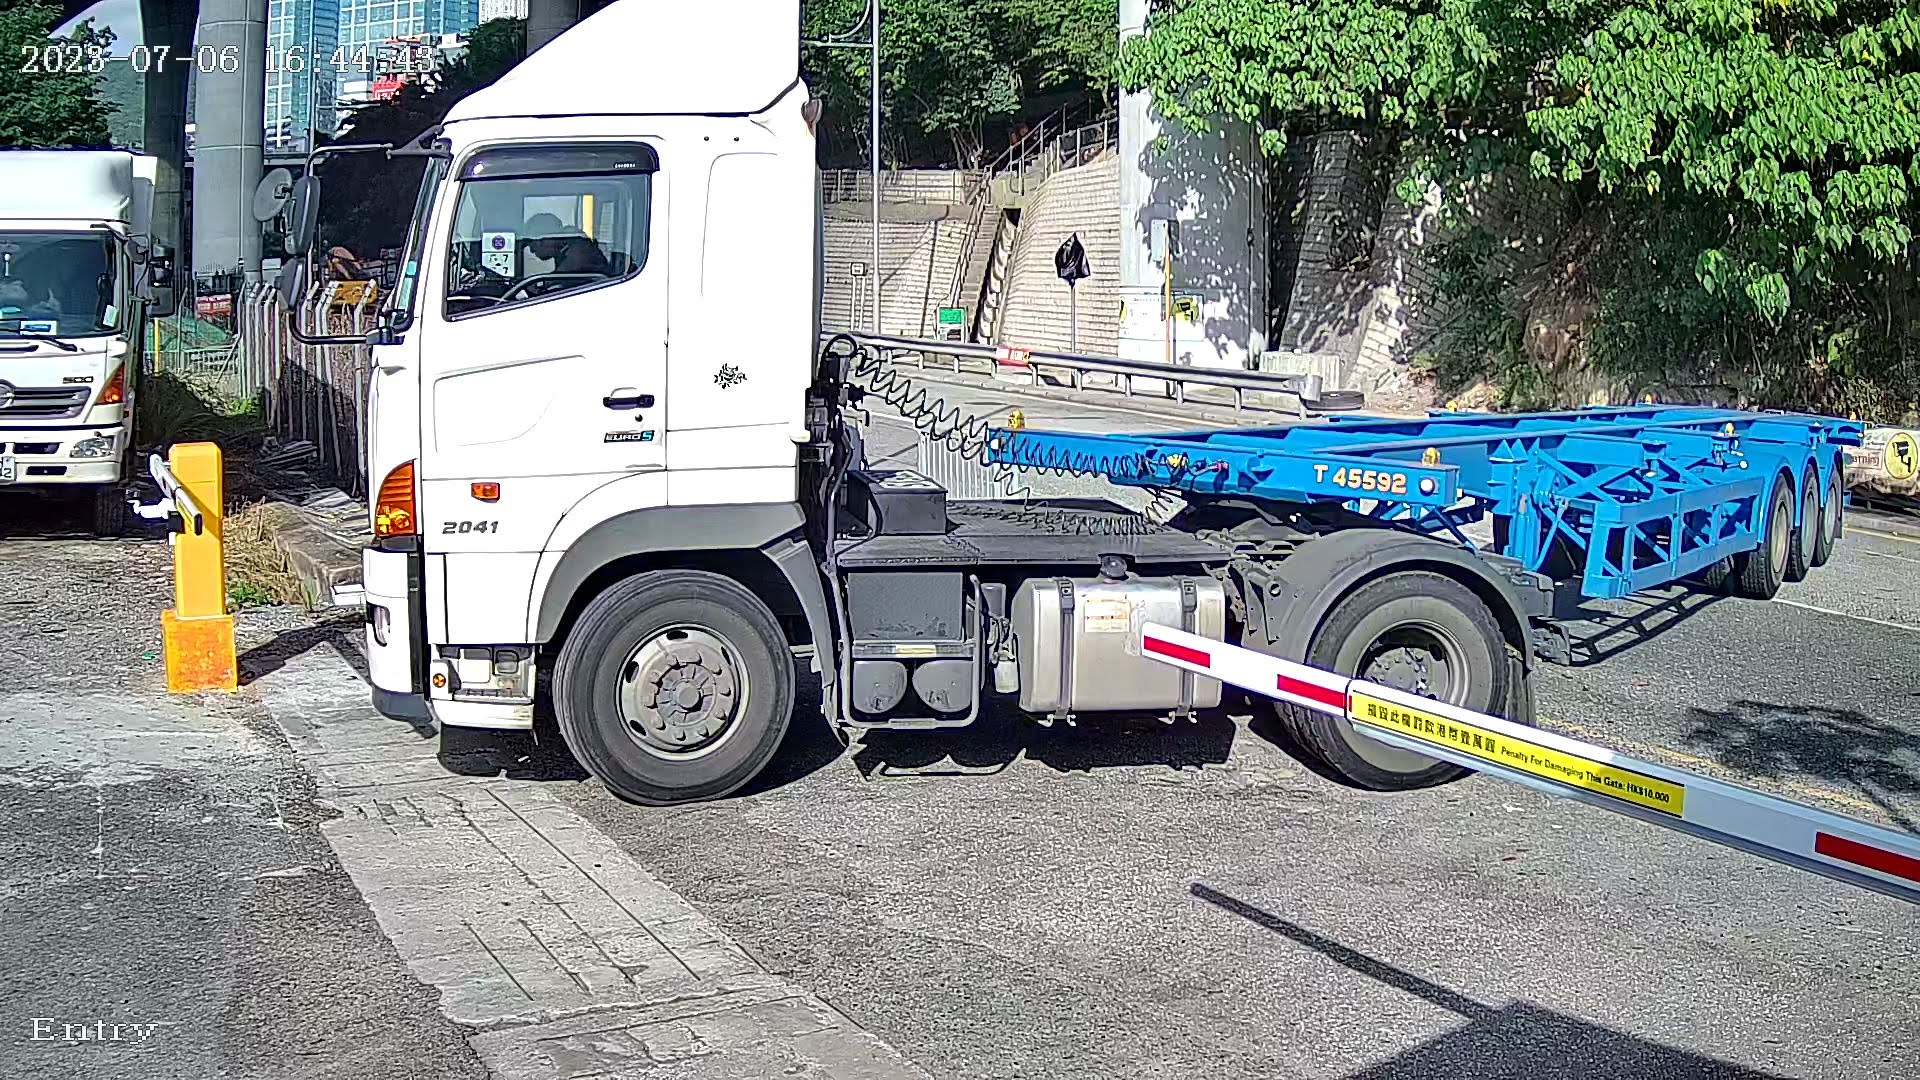tractor: (324, 1, 1580, 804)
